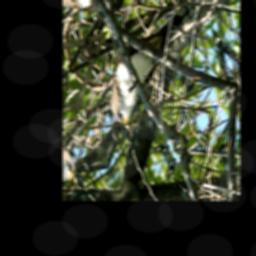Cuckoo: (94, 0, 215, 140)
